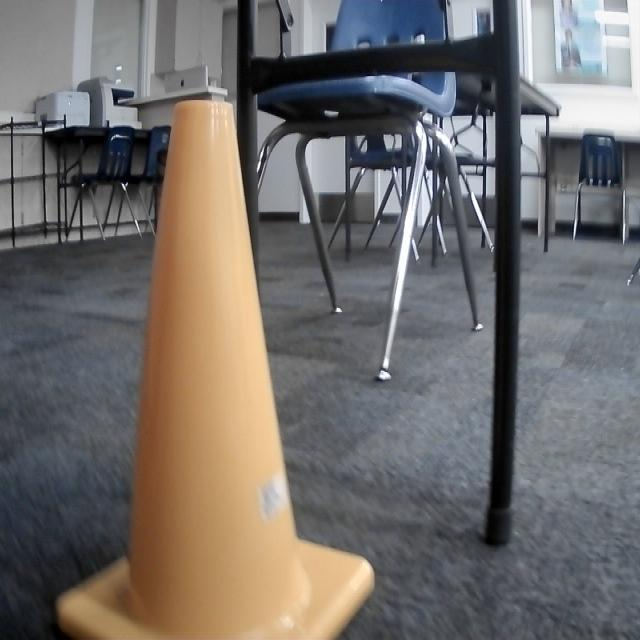cone: (54, 96, 376, 640)
